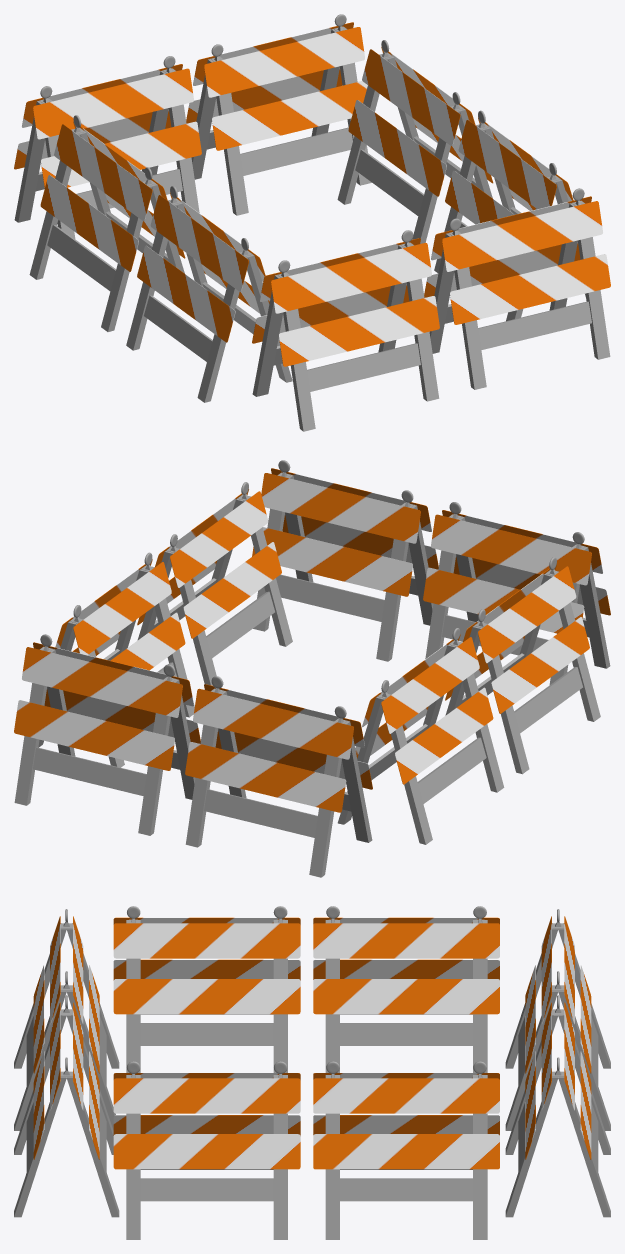
Rendered from dnger.fbx.
3 views of the same model, one above another, from view 1: azimuth 30°, elevation 25°; view 2: azimuth 150°, elevation 25°; view 3: azimuth 270°, elevation 25° (orthographic). The views are drawn at different scales.
Parts seen in each view (by area): view 1: Object_12; view 2: Object_12; view 3: Object_12.
Part boxes in pixels (<box>): Object_12: <box>14,14,610,431</box>; Object_12: <box>14,460,610,877</box>; Object_12: <box>14,906,610,1239</box>.
Bounding box in the file's own units: 378 × 138 × 478.
16 materials, 16 textured.
